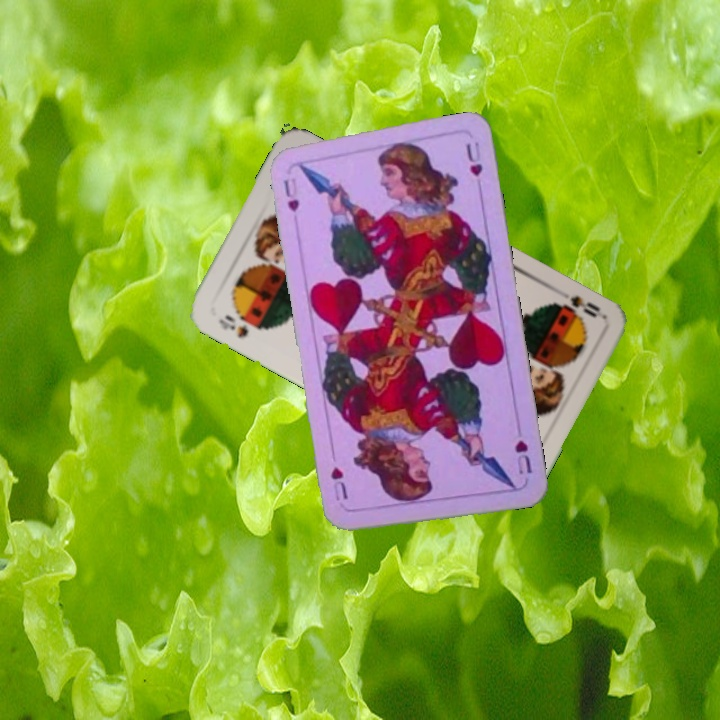HU: (511, 436, 535, 477), (280, 173, 302, 215)
SO: (549, 291, 607, 321), (214, 310, 264, 341)
